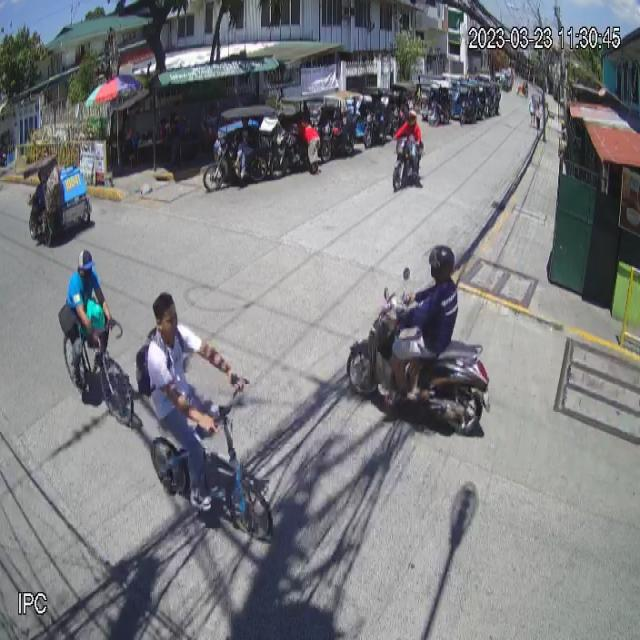Motorcycle: (346, 267, 490, 436), (393, 132, 427, 193)
Tricycle: (23, 154, 93, 247)
